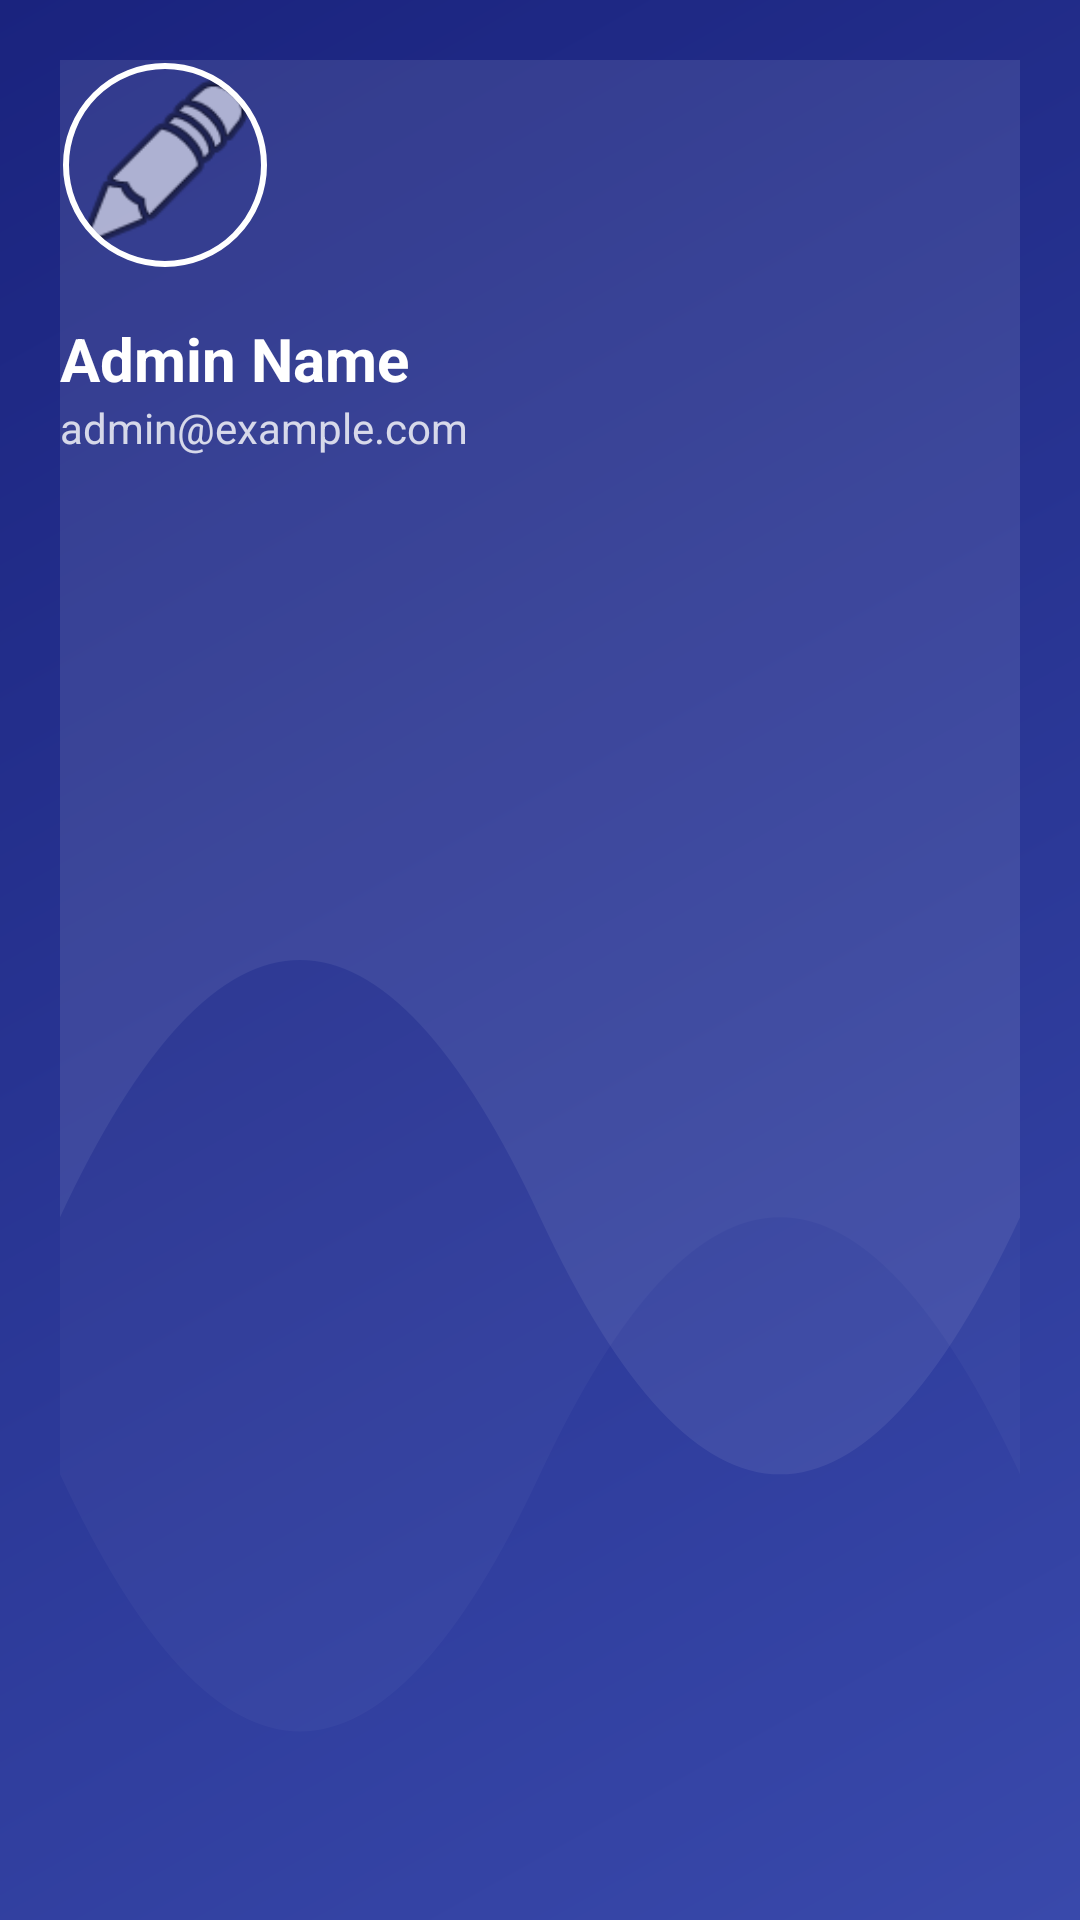

Icons on this 1080 × 1920 Android screen, each with its box as (x1, y1, x2, y2):
edit: (63, 63, 267, 267)
